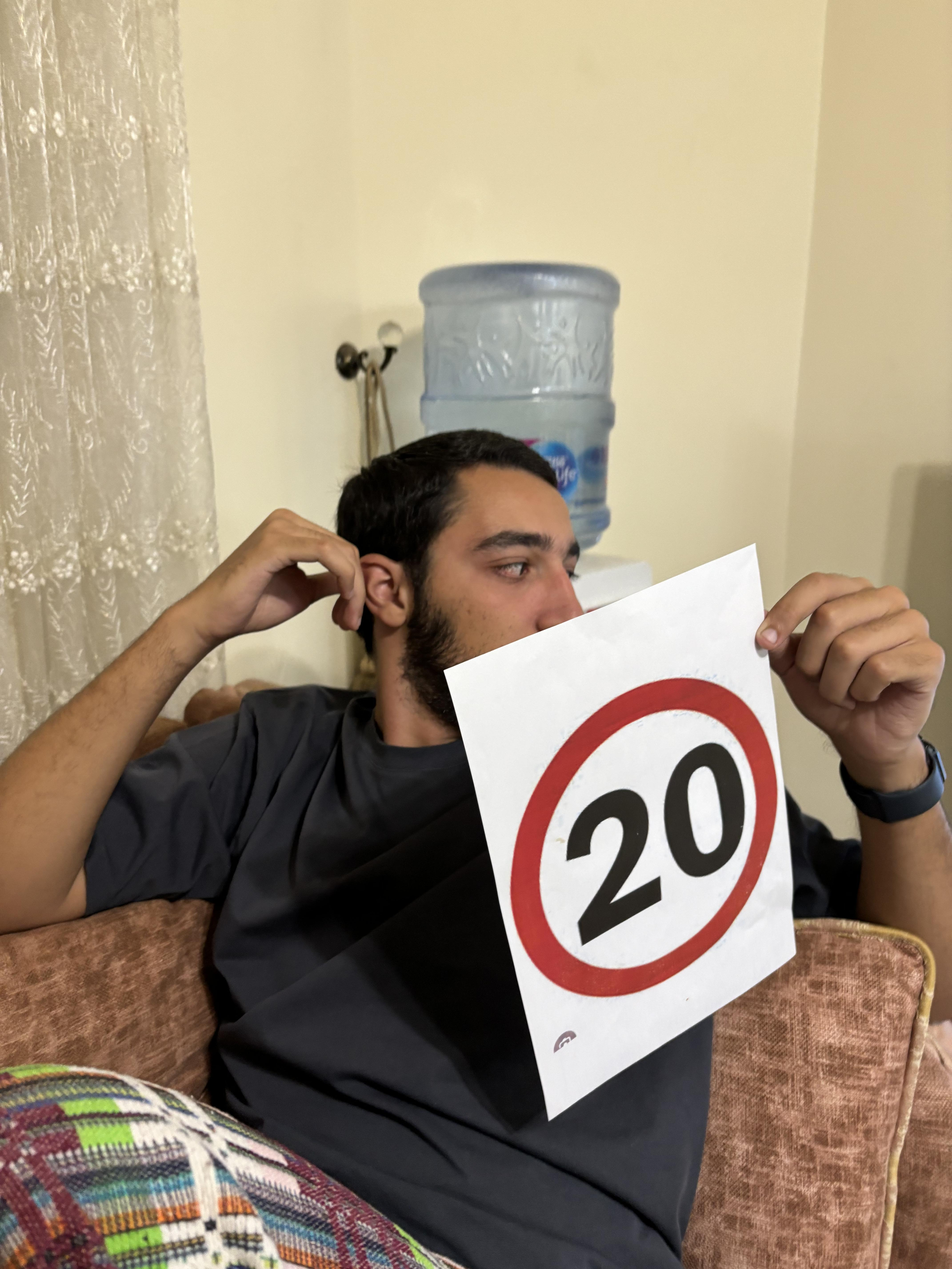20-Speed: (504, 669, 785, 1002)
